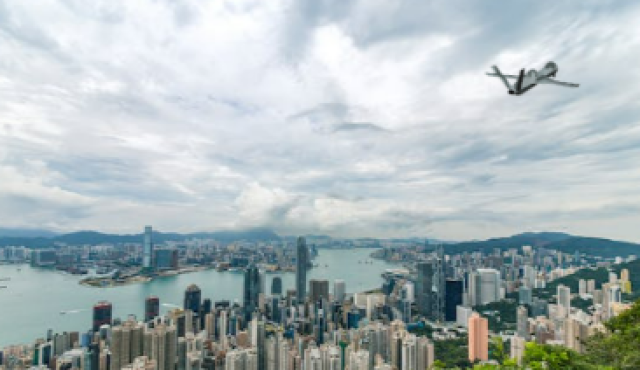military drone: (484, 60, 581, 96)
